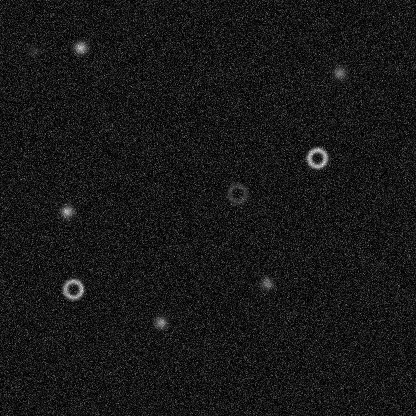Ring: (305, 145, 329, 169), (225, 181, 249, 205), (61, 277, 85, 301)
Spot: (152, 314, 168, 330), (25, 43, 41, 59), (59, 203, 75, 219), (72, 39, 88, 55), (258, 275, 274, 291), (331, 64, 347, 80)
